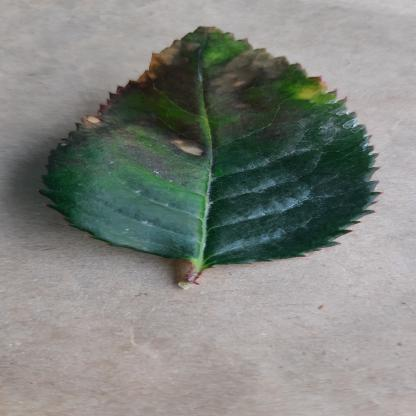powdery-mildew: (33, 24, 387, 266)
